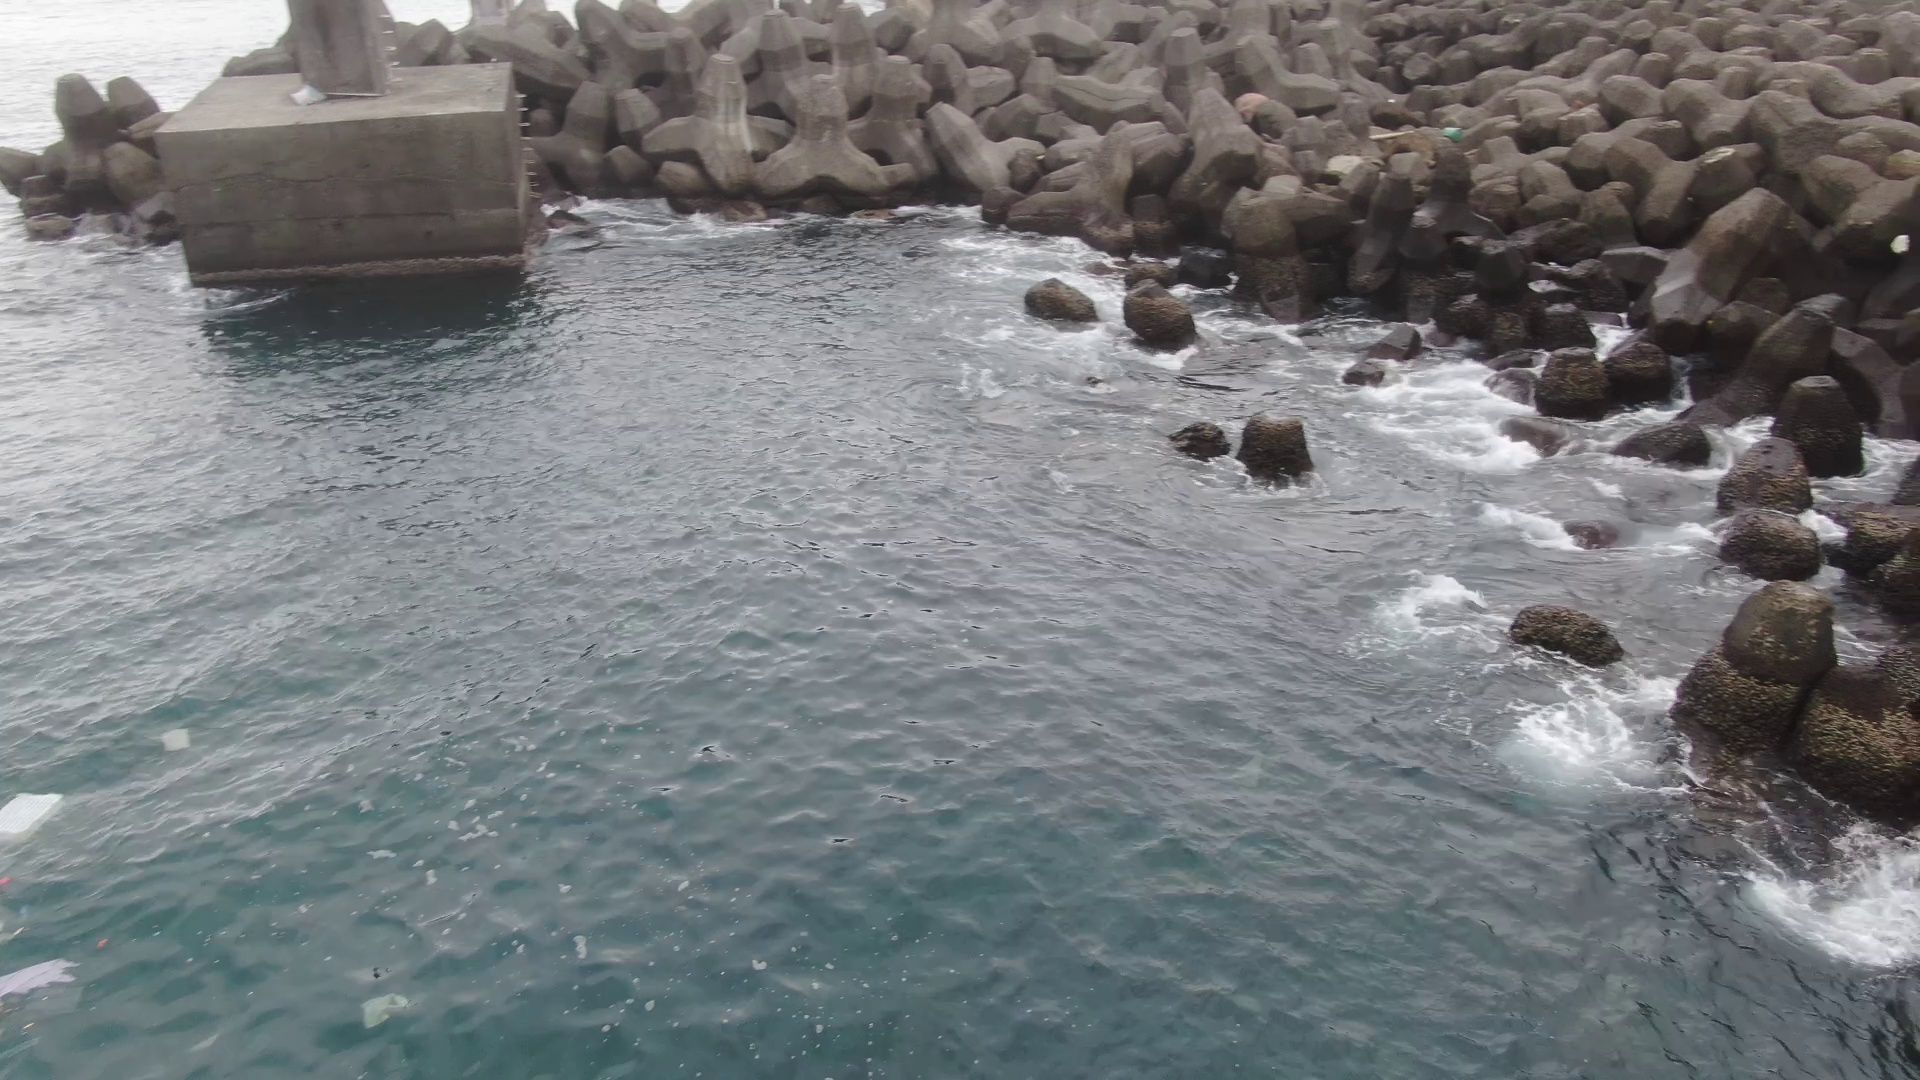garbage: (3, 961, 80, 997), (5, 790, 59, 836), (361, 992, 407, 1029), (161, 729, 191, 752), (1444, 127, 1464, 142)
